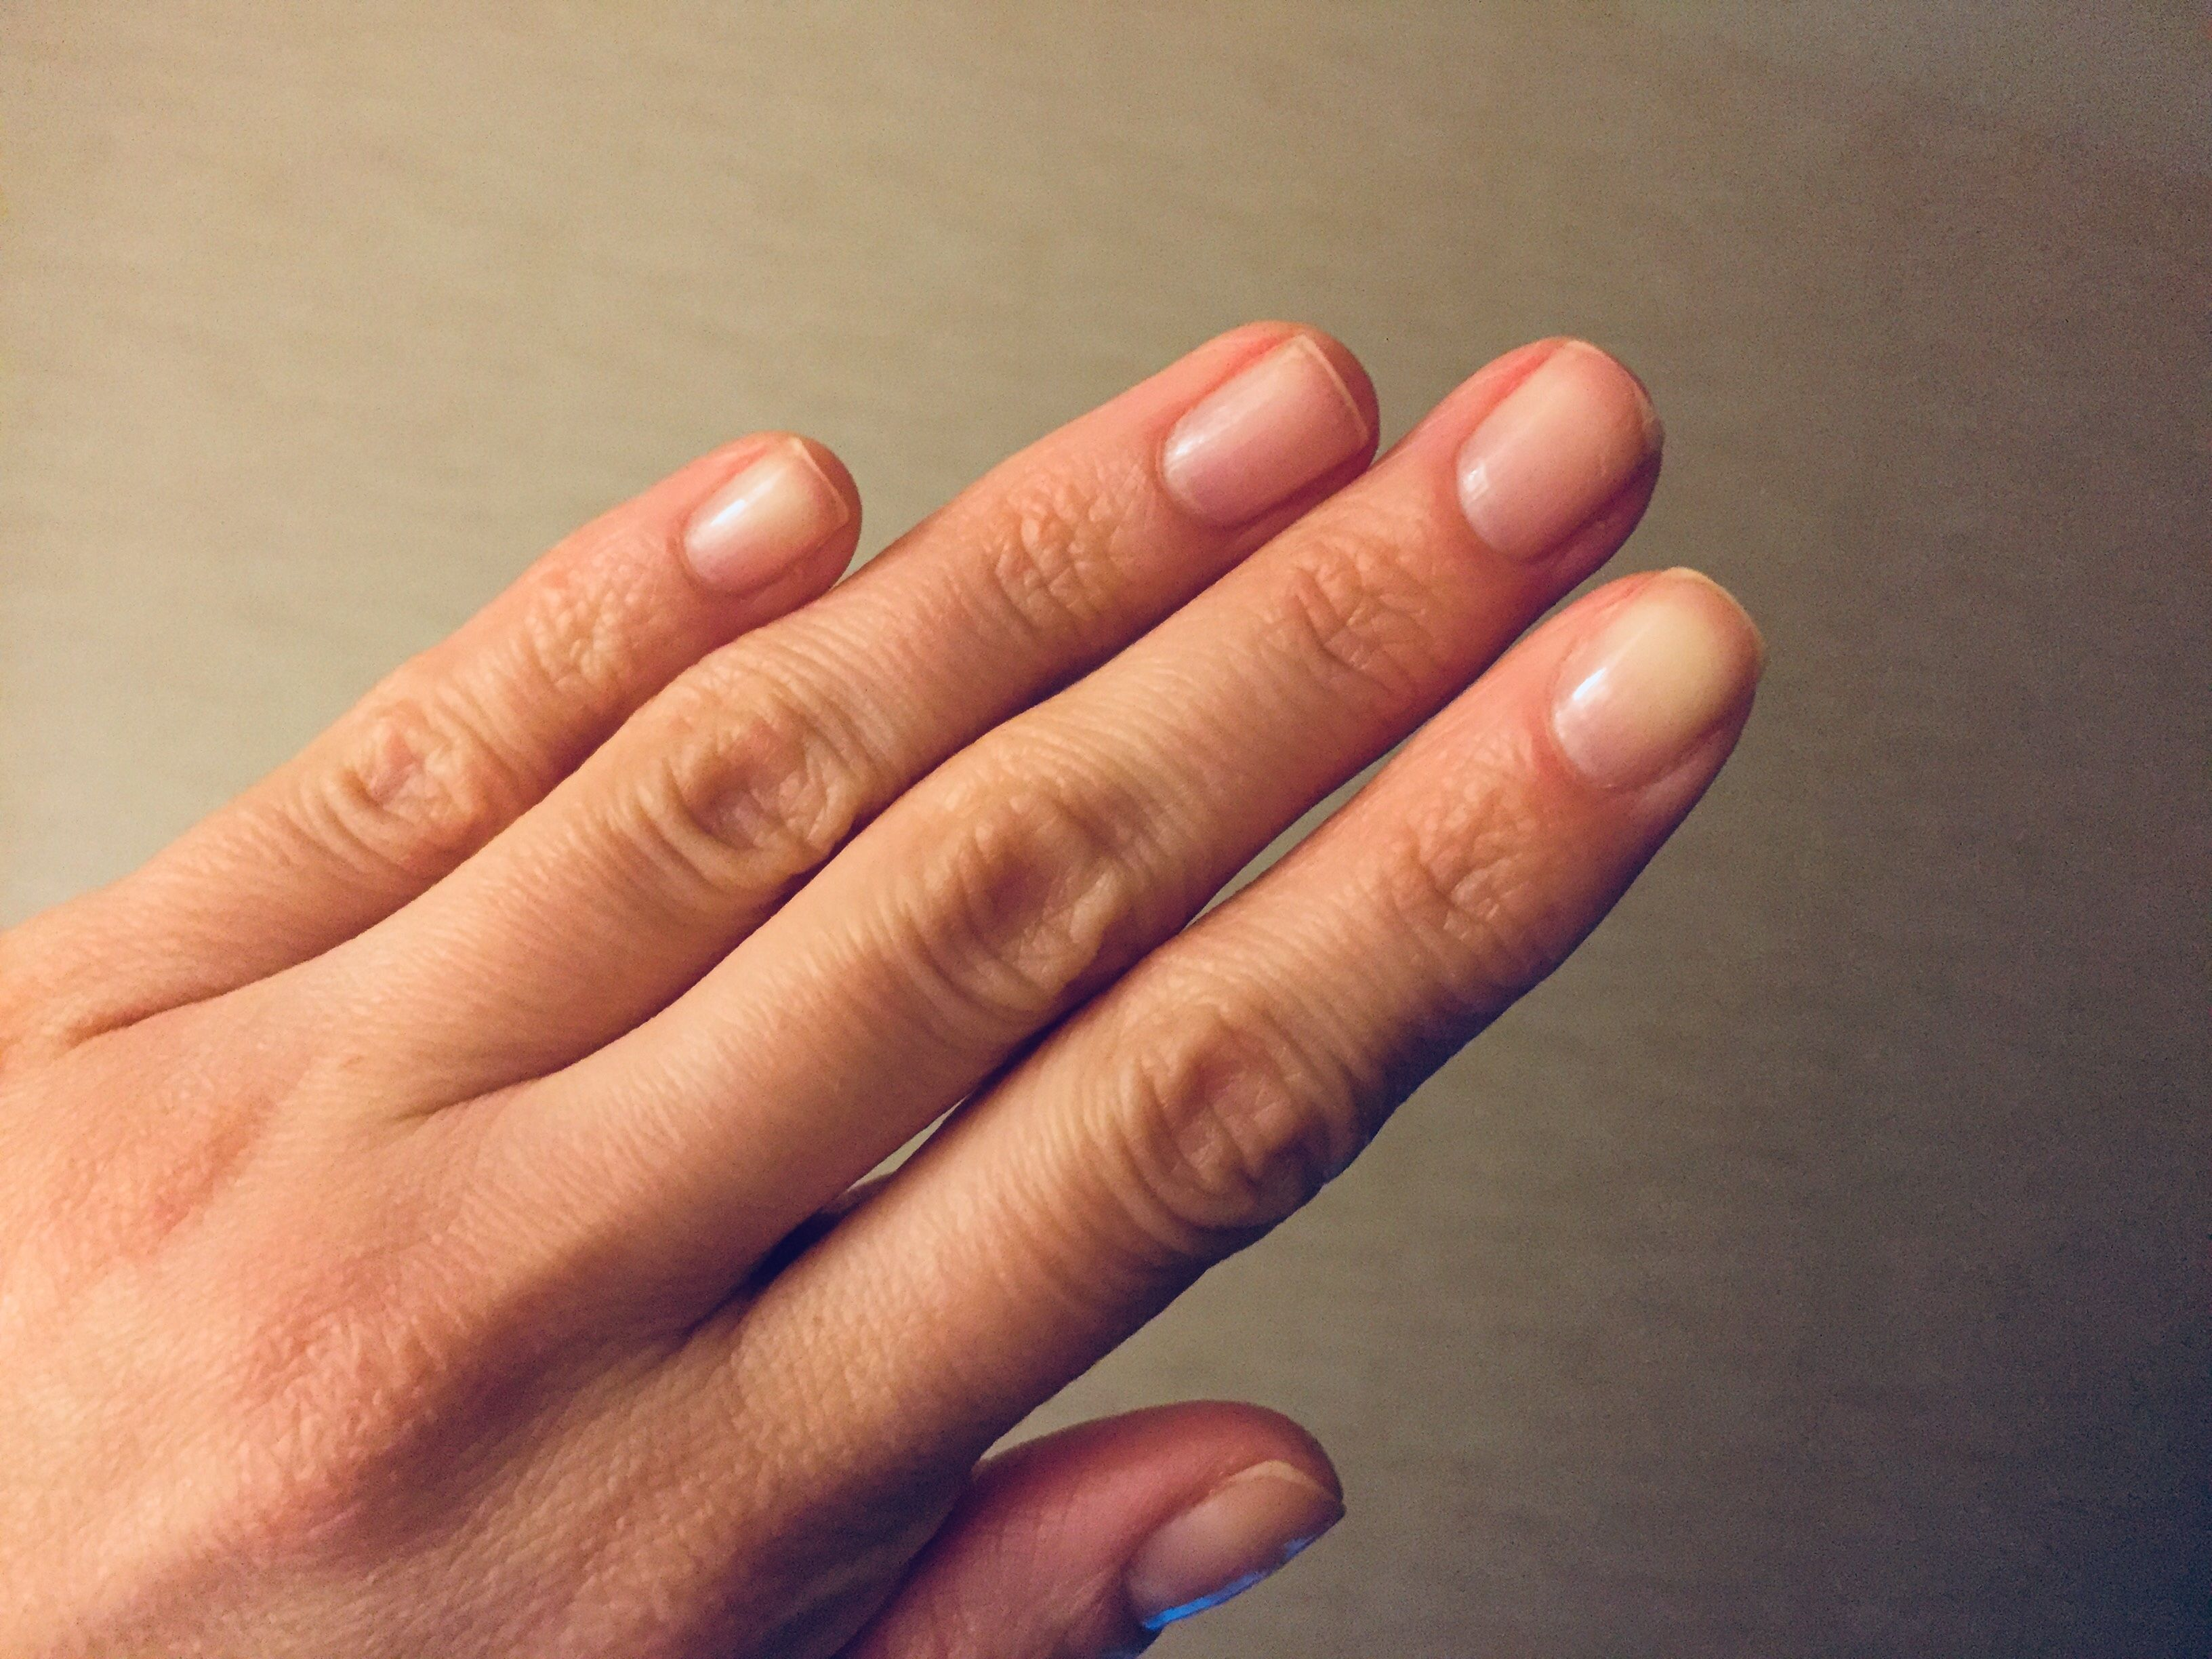nails: (1435, 319, 1683, 568), (1529, 559, 1766, 803), (1148, 321, 1376, 544), (1106, 1452, 1353, 1638), (657, 416, 864, 603)
